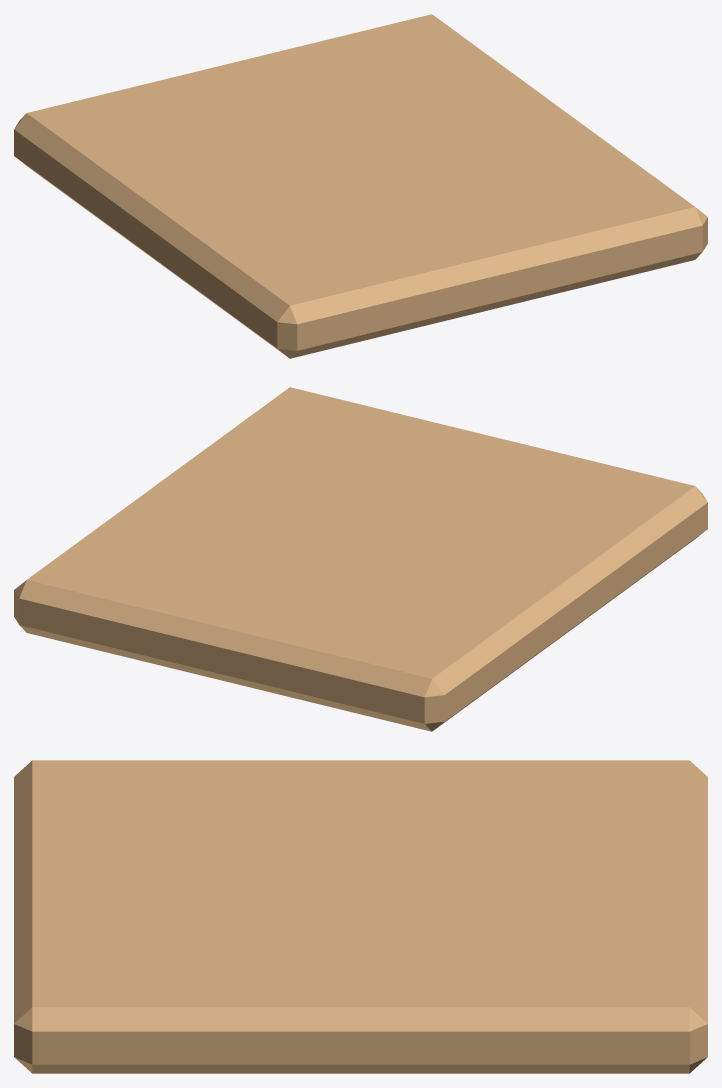
File: SM_Menu_VanityPapers.fbx
3 renders of one model, top to bottom at view 1: azimuth 30°, elevation 25°; view 2: azimuth 150°, elevation 25°; view 3: azimuth 270°, elevation 25°, orthographic. The views are drawn at different scales.
Visible parts, largest first — view 1: SM_Menu_VanityPapers; view 2: SM_Menu_VanityPapers; view 3: SM_Menu_VanityPapers.
Part boxes in pixels (bbox=[...]): SM_Menu_VanityPapers: bbox=[14, 14, 707, 358]; SM_Menu_VanityPapers: bbox=[14, 387, 707, 731]; SM_Menu_VanityPapers: bbox=[14, 760, 707, 1073].
Bounding box in the file's own units: 34 × 38 × 4.
